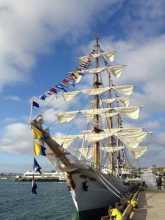fanchuan: (27, 31, 157, 215)
